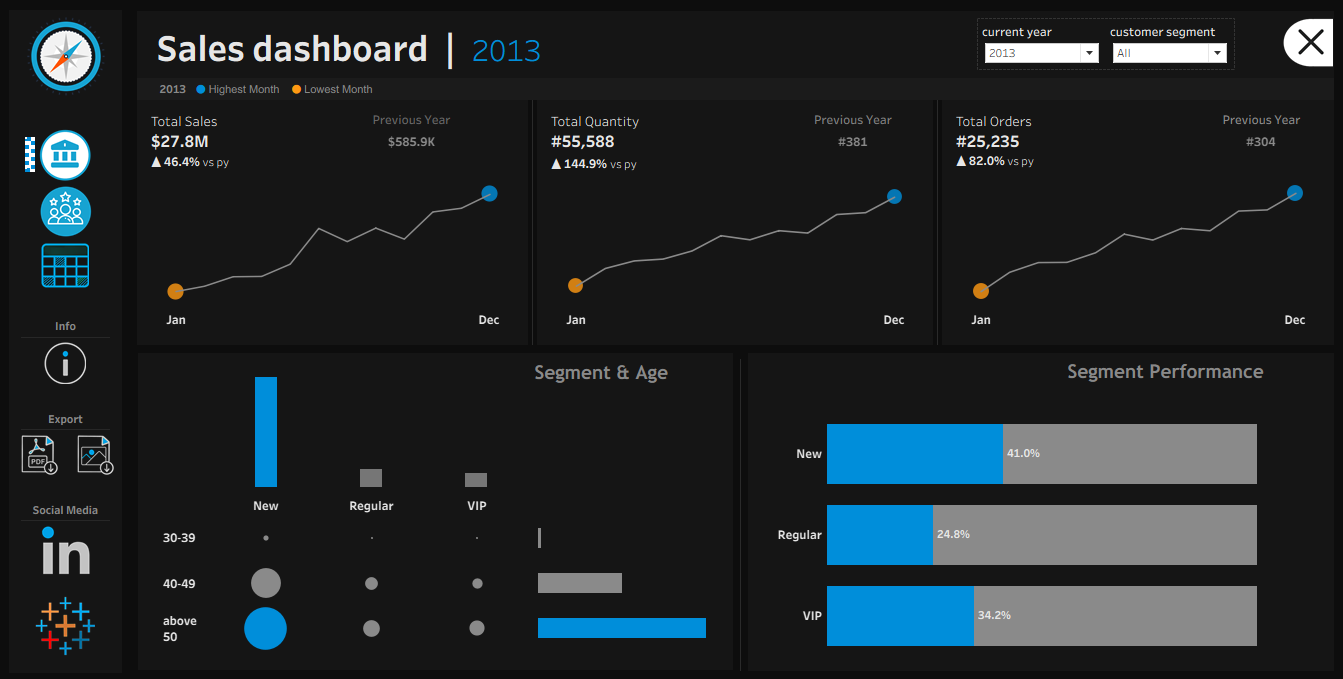

This screenshot's page, from the dashboard's own definition file:
{"tool":"tableau","page":{"name":"sales summary","canvas":[1350,685],"ordinal":2},"visuals":[{"type":"blank","box":[107,0,1244,157]},{"type":"blank","box":[125,0,1225,13]},{"type":"blank","box":[12,12,113,5]},{"type":"text","box":[125,13,1225,71]},{"type":"image","param":"Image/Icon - Logo.png","box":[12,17,113,81.8]},{"type":"dashboard-object","box":[1281,19,60,50]},{"type":"parameter","param":"[Parameters].[Parameter 1]","box":[981,21,128,50]},{"type":"parameter","param":"[Parameters].[Customer Segment Parameter]","box":[1109,21,128,50]},{"type":"text","box":[140,80,1197,22]},{"type":"blank","box":[125,84,1225,1]},{"type":"worksheet","title":"KPI sales","mark":"Line","rows":["min/max sales (copy)_517913967269511271","Calculation_517913967263117413"],"cols":["last_order_date"],"box":[136,85,395,270]},{"type":"blank","box":[531,85,9,270]},{"type":"worksheet","title":"KPI quantity","mark":"Line","rows":["Calculation_517913965847449610","cy orders (dynamic) (copy)_517913967310184557"],"cols":["last_order_date"],"box":[540,85,396,270]},{"type":"blank","box":[936,85,9,270]},{"type":"worksheet","title":"KPI orders","mark":"Line","rows":["min/max sales (copy)_517913967281381481","Calculation_517913967278891112"],"cols":["last_order_date"],"box":[945,85,396,270]},{"type":"blank","box":[12,98.8,113,30]},{"type":"text","box":[318,111,193,20]},{"type":"text","box":[794,111,124,20]},{"type":"text","box":[1200,111,129,20]},{"type":"dashboard-object","box":[12,128.8,113,56]},{"type":"worksheet","title":"ban py sales","mark":"Automatic","box":[318,131,193,25]},{"type":"worksheet","title":"ban py quantity","mark":"Automatic","box":[794,131,124,25]},{"type":"worksheet","title":"ban py orders","mark":"Automatic","box":[1200,131,129,25]},{"type":"blank","box":[28,139,10,35]},{"type":"text","box":[107,157,1244,371]},{"type":"dashboard-object","box":[12,184.8,113,56]},{"type":"dashboard-object","box":[12,240.8,113,50]},{"type":"blank","box":[12,290.8,113,25]},{"type":"text","box":[12,315.8,113,23]},{"type":"blank","box":[12,338.8,113,1]},{"type":"dashboard-object","box":[12,339.8,113,46]},{"type":"blank","box":[742,355,3,330]},{"type":"worksheet","title":"cust.seg by year of total sales","mark":"Bar","rows":["customer_segment"],"cols":["Calculation_764204574747684869","Calculation_764204574755713030"],"box":[745,355,592,330]},{"type":"text","box":[1068,359,202,30]},{"type":"text","box":[535,360,154,29]},{"type":"worksheet","title":"cust. segment","mark":"Automatic","rows":["Calculation_105553128194822159"],"cols":["customer_segment"],"box":[156,370,565,123]},{"type":"blank","box":[12,385.8,113,25]},{"type":"text","box":[12,410.8,113,20]},{"type":"blank","box":[12,430.8,113,1]},{"type":"dashboard-object","box":[12,436,57,41]},{"type":"dashboard-object","box":[69,436,56,41]},{"type":"blank","box":[12,476.8,113,25]},{"type":"worksheet","title":"cust. segment vs age_group","mark":"Circle","rows":["age_group"],"cols":["customer_segment"],"box":[156,493,381,164]},{"type":"worksheet","title":"age group","mark":"Bar","rows":["age_group"],"cols":["Calculation_105553128194822159"],"box":[537,493,184,164]},{"type":"text","box":[12,501.8,113,20]},{"type":"blank","box":[12,521.8,113,1]},{"type":"image","param":"Image/contact-linkedin baraa.png","box":[12,522.8,113,55]},{"type":"blank","box":[107,528,1244,157]},{"type":"blank","box":[12,577.8,113,10]},{"type":"blank","box":[12,587.8,113,10]},{"type":"image","param":"Image/contact-public baraa.png","box":[12,597.8,113,60]},{"type":"blank","box":[12,657.8,113,17.2]}]}

Visuals, with their boxes on the page's 1350x685 design canvas (x1, y1, x2, y2). These are canvas units, not pixel positions in the 1343x679 screenshot, which may show the page scaled, cropped or inside an application window:
blank: [x1=107, y1=0, x2=1351, y2=157]
blank: [x1=125, y1=0, x2=1350, y2=13]
blank: [x1=12, y1=12, x2=125, y2=17]
text: [x1=125, y1=13, x2=1350, y2=84]
image: [x1=12, y1=17, x2=125, y2=99]
dashboard-object: [x1=1281, y1=19, x2=1341, y2=69]
parameter: [x1=981, y1=21, x2=1109, y2=71]
parameter: [x1=1109, y1=21, x2=1237, y2=71]
text: [x1=140, y1=80, x2=1337, y2=102]
blank: [x1=125, y1=84, x2=1350, y2=85]
"KPI sales" worksheet (Line marks): [x1=136, y1=85, x2=531, y2=355]
blank: [x1=531, y1=85, x2=540, y2=355]
"KPI quantity" worksheet (Line marks): [x1=540, y1=85, x2=936, y2=355]
blank: [x1=936, y1=85, x2=945, y2=355]
"KPI orders" worksheet (Line marks): [x1=945, y1=85, x2=1341, y2=355]
blank: [x1=12, y1=99, x2=125, y2=129]
text: [x1=318, y1=111, x2=511, y2=131]
text: [x1=794, y1=111, x2=918, y2=131]
text: [x1=1200, y1=111, x2=1329, y2=131]
dashboard-object: [x1=12, y1=129, x2=125, y2=185]
"ban py sales" worksheet: [x1=318, y1=131, x2=511, y2=156]
"ban py quantity" worksheet: [x1=794, y1=131, x2=918, y2=156]
"ban py orders" worksheet: [x1=1200, y1=131, x2=1329, y2=156]
blank: [x1=28, y1=139, x2=38, y2=174]
text: [x1=107, y1=157, x2=1351, y2=528]
dashboard-object: [x1=12, y1=185, x2=125, y2=241]
dashboard-object: [x1=12, y1=241, x2=125, y2=291]
blank: [x1=12, y1=291, x2=125, y2=316]
text: [x1=12, y1=316, x2=125, y2=339]
blank: [x1=12, y1=339, x2=125, y2=340]
dashboard-object: [x1=12, y1=340, x2=125, y2=386]
blank: [x1=742, y1=355, x2=745, y2=685]
"cust.seg by year of total sales" worksheet (Bar marks): [x1=745, y1=355, x2=1337, y2=685]
text: [x1=1068, y1=359, x2=1270, y2=389]
text: [x1=535, y1=360, x2=689, y2=389]
"cust. segment" worksheet: [x1=156, y1=370, x2=721, y2=493]
blank: [x1=12, y1=386, x2=125, y2=411]
text: [x1=12, y1=411, x2=125, y2=431]
blank: [x1=12, y1=431, x2=125, y2=432]
dashboard-object: [x1=12, y1=436, x2=69, y2=477]
dashboard-object: [x1=69, y1=436, x2=125, y2=477]
blank: [x1=12, y1=477, x2=125, y2=502]
"cust. segment vs age_group" worksheet (Circle marks): [x1=156, y1=493, x2=537, y2=657]
"age group" worksheet (Bar marks): [x1=537, y1=493, x2=721, y2=657]
text: [x1=12, y1=502, x2=125, y2=522]
blank: [x1=12, y1=522, x2=125, y2=523]
image: [x1=12, y1=523, x2=125, y2=578]
blank: [x1=107, y1=528, x2=1351, y2=685]
blank: [x1=12, y1=578, x2=125, y2=588]
blank: [x1=12, y1=588, x2=125, y2=598]
image: [x1=12, y1=598, x2=125, y2=658]
blank: [x1=12, y1=658, x2=125, y2=675]
